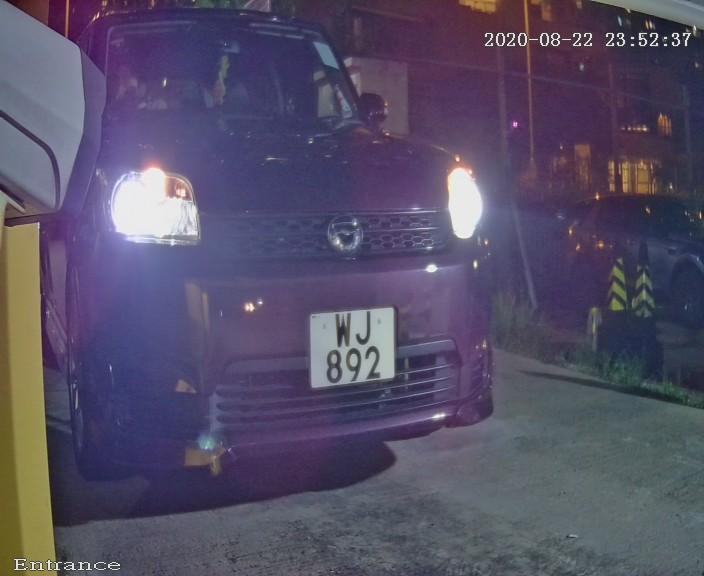Car: (19, 6, 547, 548)
License Plate: (299, 294, 406, 407)
